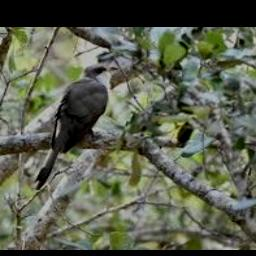Cuckoo: (35, 64, 117, 190)
